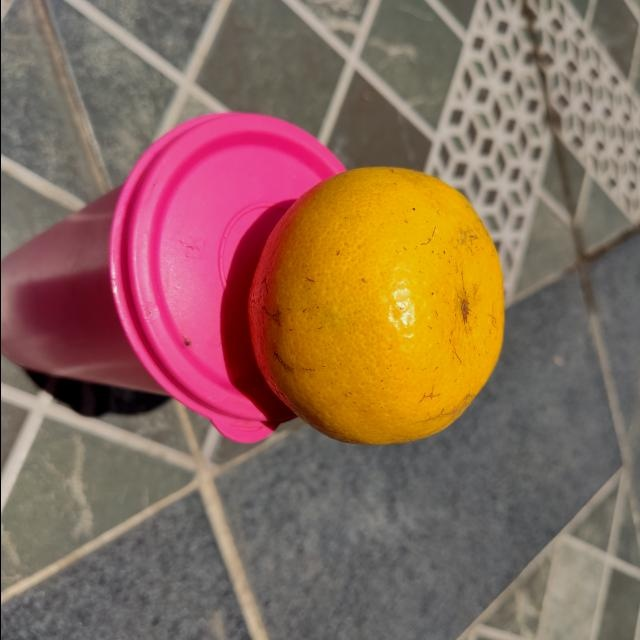agrume: (241, 164, 507, 448)
